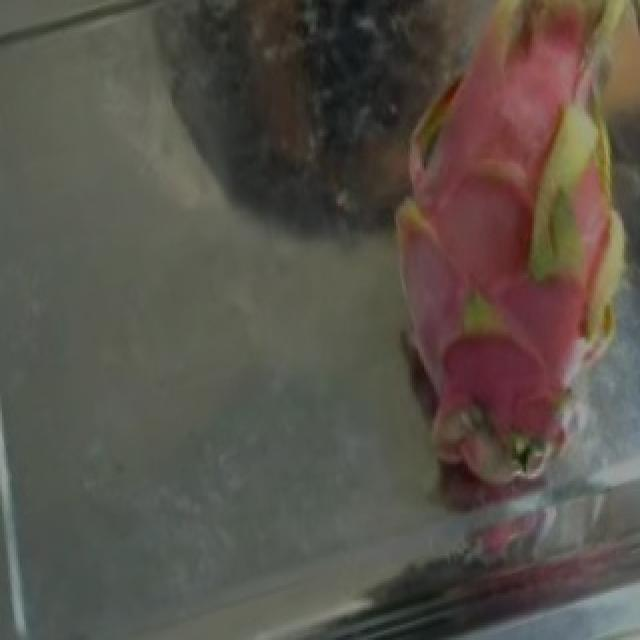fruit: (316, 5, 640, 469)
